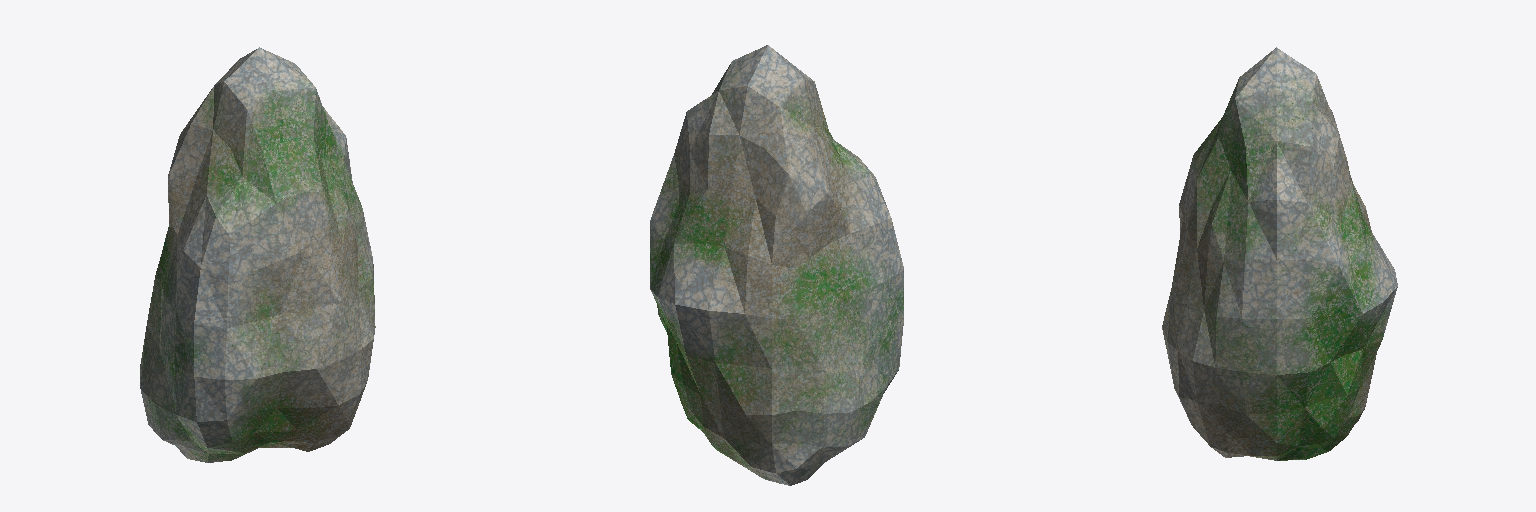
The picture shows the model from 3 angles: view 1: azimuth 30°, elevation 25°; view 2: azimuth 150°, elevation 25°; view 3: azimuth 270°, elevation 25°; orthographic projection.
Visible parts, largest first — view 1: Stone_F_3_LOD1; view 2: Stone_F_3_LOD1; view 3: Stone_F_3_LOD1.
Part boxes in pixels (x1,y1,x2,y2): Stone_F_3_LOD1: (140, 47, 375, 462); Stone_F_3_LOD1: (650, 45, 903, 485); Stone_F_3_LOD1: (1162, 47, 1397, 460).
Bounding box in the file's own units: 65.9 × 128 × 65.48.
Materials: 1 (1 with a texture image).